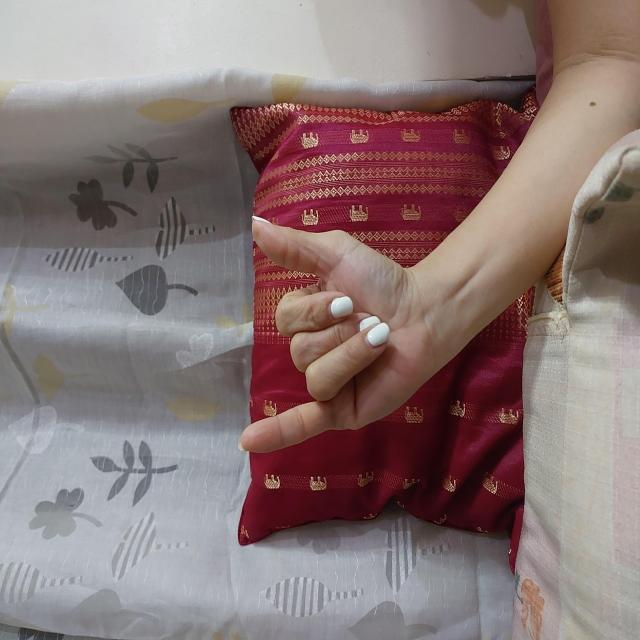Y: (182, 237, 429, 425)
